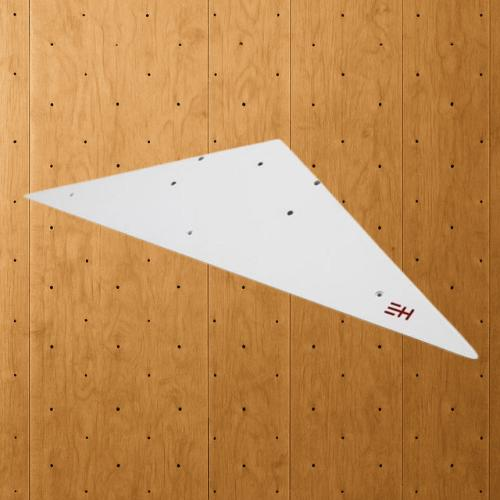Volume: (22, 136, 480, 361)
